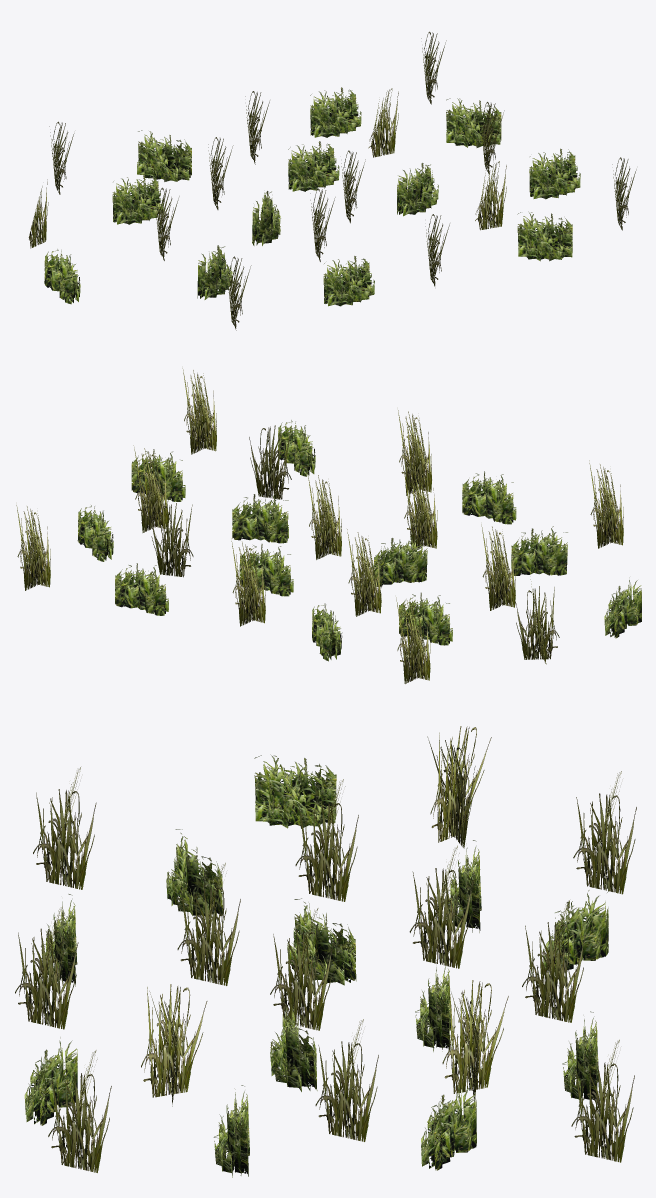
File: multipleGrass.obj
3 renders of one model, top to bottom at view 1: azimuth 30°, elevation 25°; view 2: azimuth 150°, elevation 25°; view 3: azimuth 270°, elevation 25°, orthographic. The views are drawn at different scales.
Visible parts, largest first — view 1: material_0.018, material_0.025, material_0.017, material_0.024, material_0.016, material_0.020, material_0.019, material_0.015, material_0.021, material_0.014, material_0.013, material_0.009 (+14 smaller); view 2: material_0.021, material_0.013, material_0.022, material_0.019, material_0.016, material_0.015, material_0.002, material_0.005, material_0.004, material_0.008, material_0, material_0.001 (+14 smaller); view 3: material_0.014, material_0.009, material_0.010, material_0.002, material_0.006, material_0.011, material_0.001, material_0, material_0.004, material_0.005, material_0.003, material_0.007 (+14 smaller).
Part boxes in pixels (<box>): material_0.018: <box>517,211,572,261</box>; material_0.025: <box>137,130,191,181</box>; material_0.017: <box>446,98,501,147</box>; material_0.024: <box>288,141,339,191</box>; material_0.016: <box>310,87,361,137</box>; material_0.020: <box>529,148,580,199</box>; material_0.019: <box>323,256,374,306</box>; material_0.015: <box>112,174,163,224</box>; material_0.021: <box>397,163,438,216</box>; material_0.014: <box>44,249,80,304</box>; material_0.013: <box>197,245,232,299</box>; material_0.009: <box>475,161,506,230</box>; material_0.021: <box>232,493,288,543</box>; material_0.013: <box>511,526,567,575</box>; material_0.022: <box>371,533,427,586</box>; material_0.019: <box>462,471,516,524</box>; material_0.016: <box>115,563,168,615</box>; material_0.015: <box>399,592,452,645</box>; material_0.002: <box>182,368,216,454</box>; material_0.005: <box>231,538,265,626</box>; material_0.004: <box>481,524,515,610</box>; material_0.008: <box>515,579,559,664</box>; material_0: <box>396,597,430,683</box>; material_0.001: <box>589,460,623,548</box>; material_0.014: <box>254,754,336,828</box>; material_0.009: <box>141,984,207,1106</box>; material_0.010: <box>442,980,508,1101</box>; material_0.002: <box>48,1050,111,1172</box>; material_0.006: <box>315,1019,378,1141</box>; material_0.011: <box>177,863,240,985</box>; material_0.001: <box>33,767,96,889</box>; material_0: <box>573,771,636,894</box>; material_0.004: <box>295,779,358,901</box>; material_0.005: <box>522,900,585,1022</box>; material_0.003: <box>571,1039,634,1162</box>; material_0.007: <box>15,906,78,1029</box>.
Bounding box in the file's own units: 64.56 × 10.09 × 46.34.
